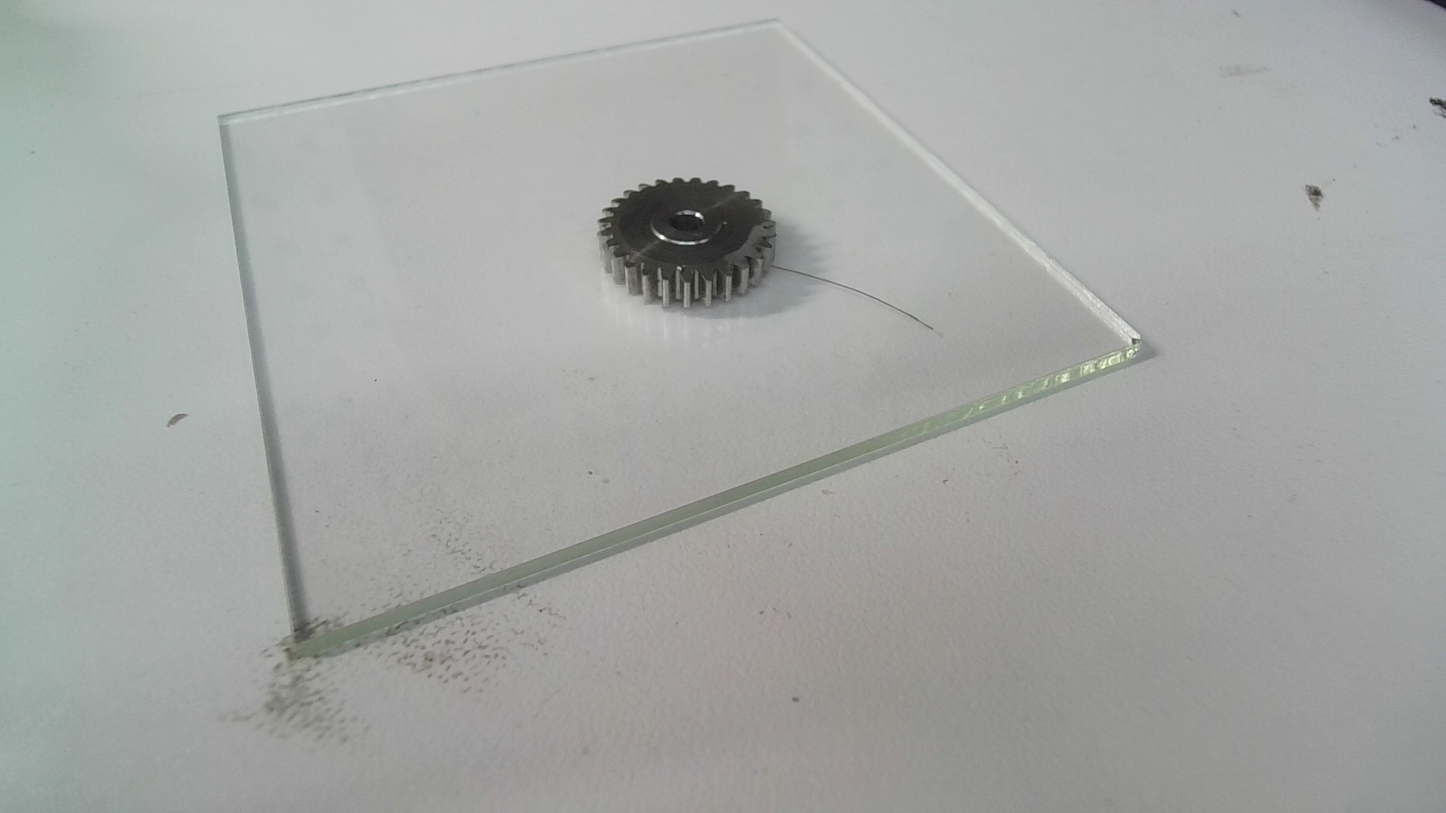gear: (595, 174, 778, 311)
